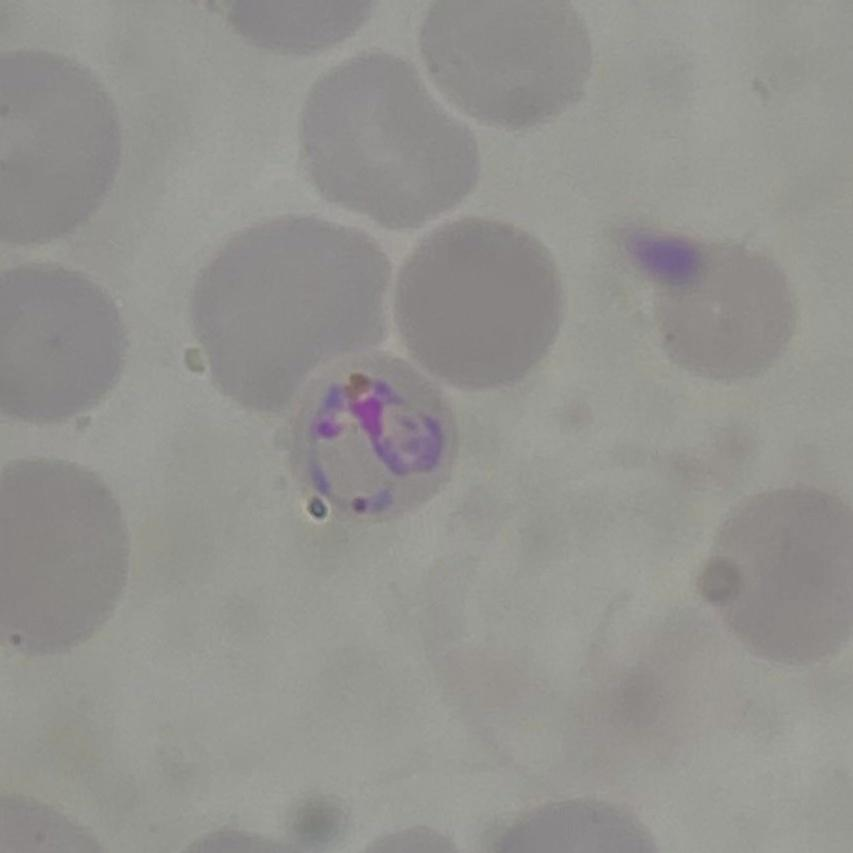Infected: (278, 343, 462, 526)
Uninfected: (194, 209, 398, 418), (298, 51, 477, 229), (398, 219, 569, 390), (0, 455, 129, 662), (0, 49, 125, 245), (710, 485, 853, 656), (422, 0, 598, 123), (0, 265, 125, 426), (660, 245, 802, 386)
